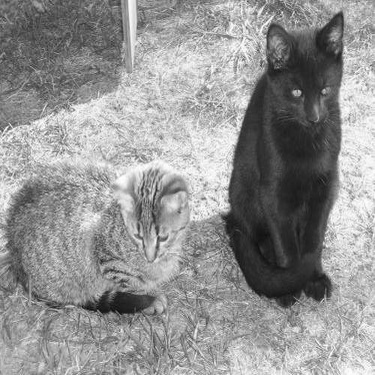cat: (223, 9, 339, 312), (7, 154, 196, 329)
